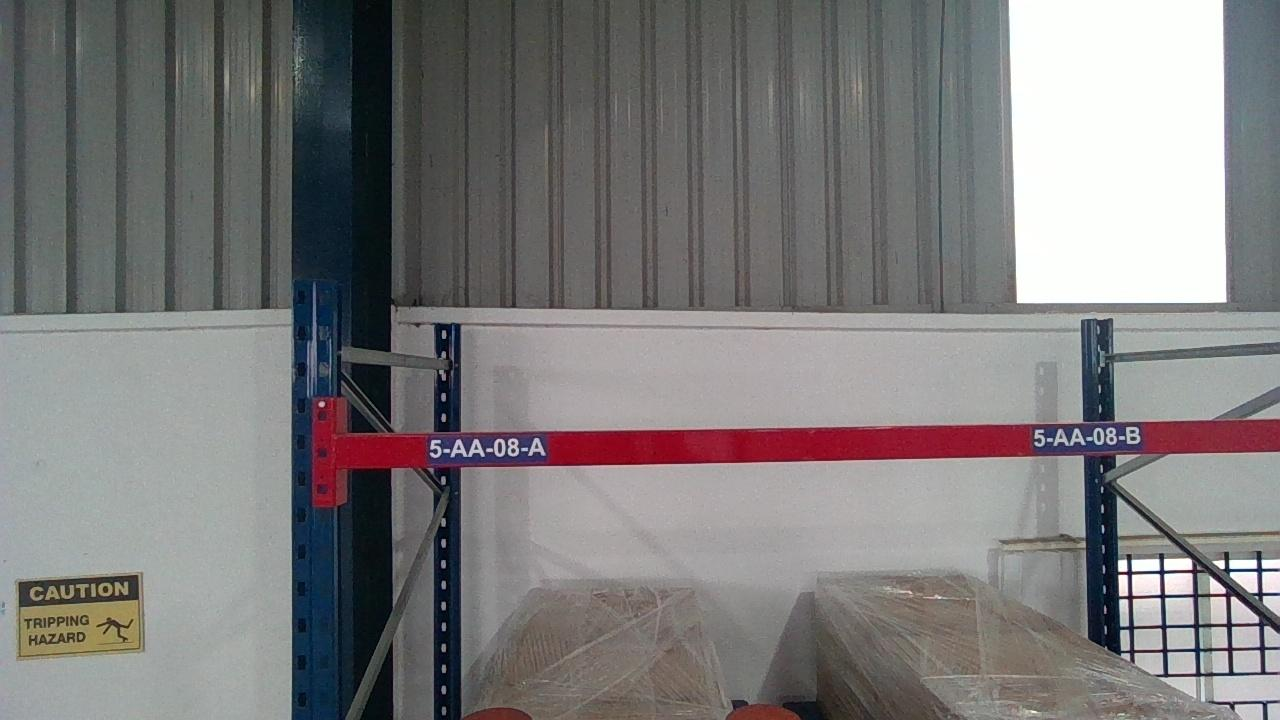h_rack: (338, 431, 1280, 453)
